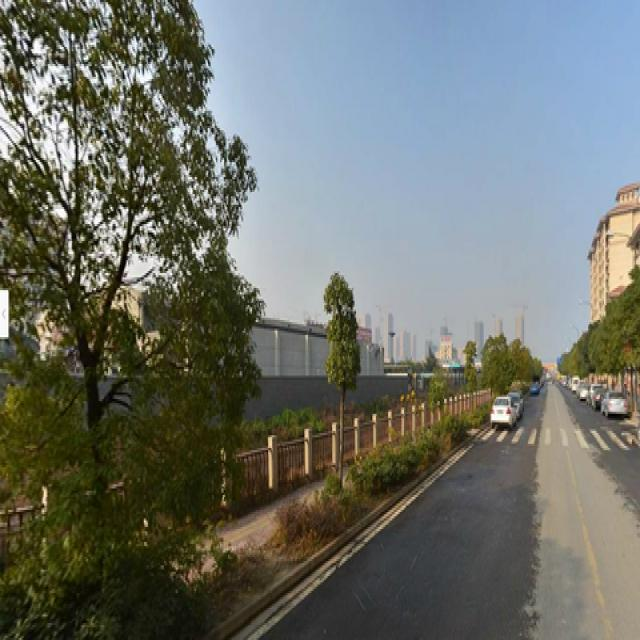cinn: (23, 21, 204, 557), (323, 250, 361, 495)
